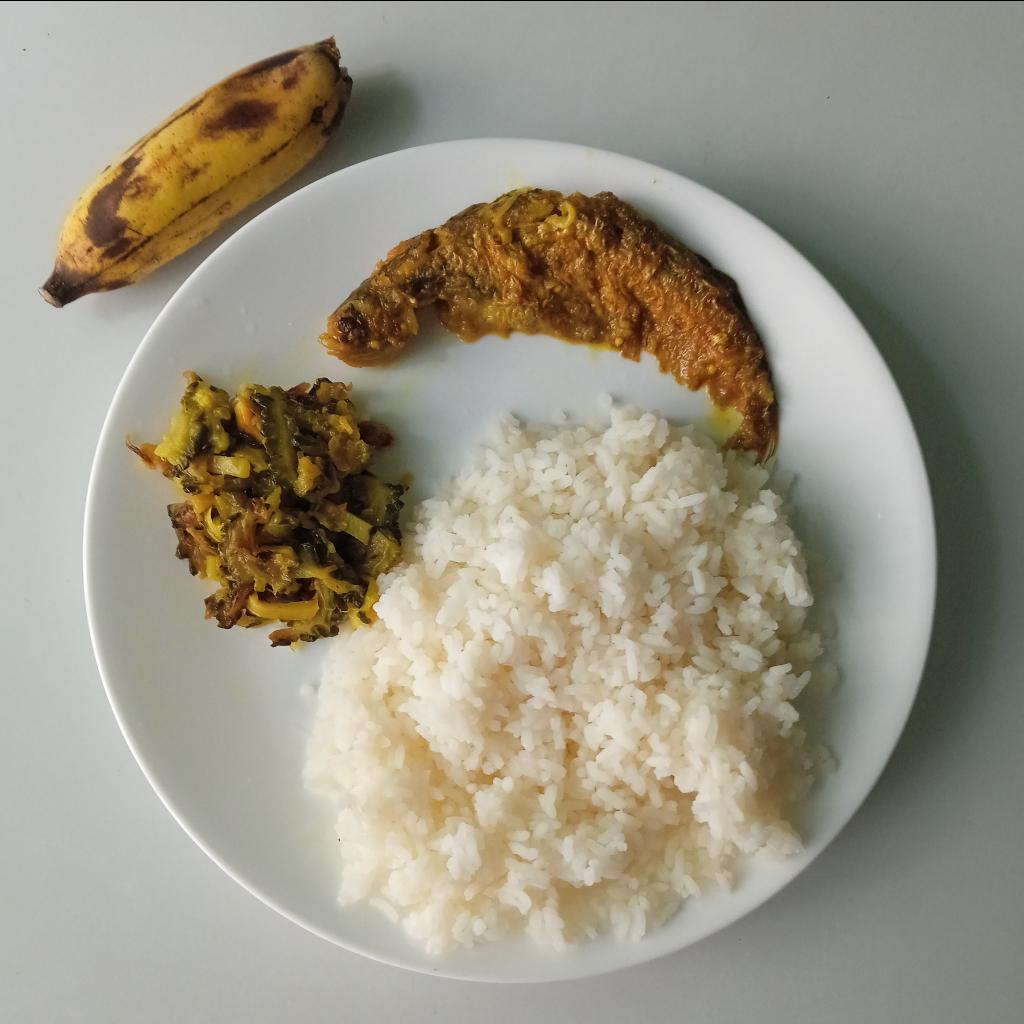banana: (36, 31, 351, 312)
fish: (324, 186, 779, 446)
korola-vaji: (128, 370, 404, 649)
rice: (299, 392, 846, 968)
